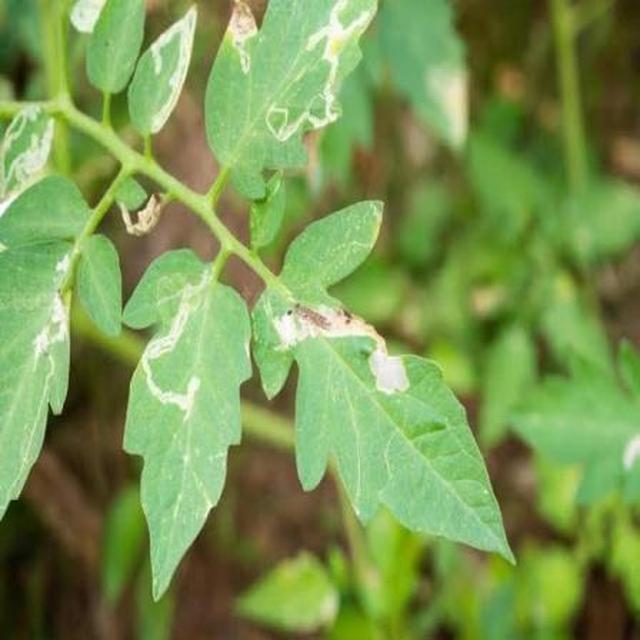Leaf Miner: (104, 99, 550, 607)
